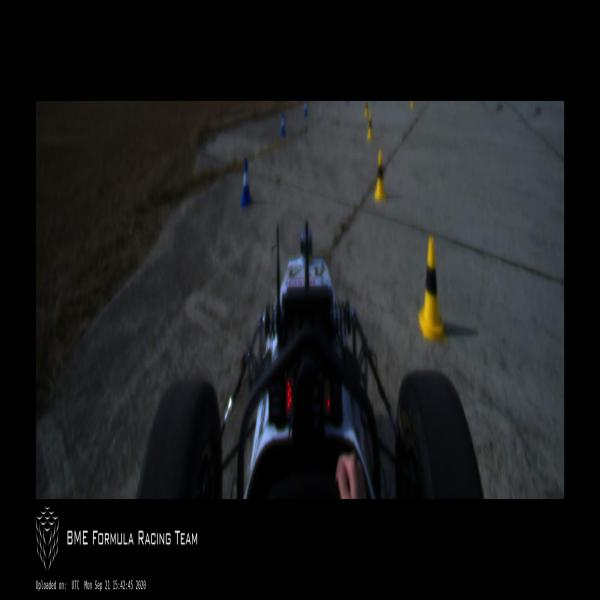blue_cone: (240, 156, 252, 208), (280, 111, 286, 137), (304, 101, 308, 118)
yellow_cone: (418, 238, 447, 342), (374, 149, 388, 201), (367, 112, 373, 140), (364, 101, 368, 117)
